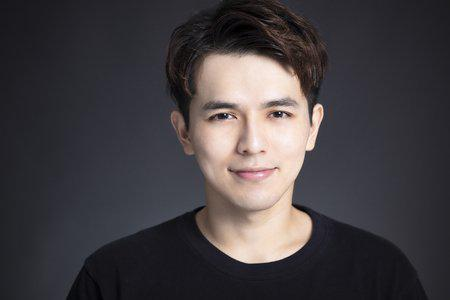Sober: (200, 59, 302, 206)
